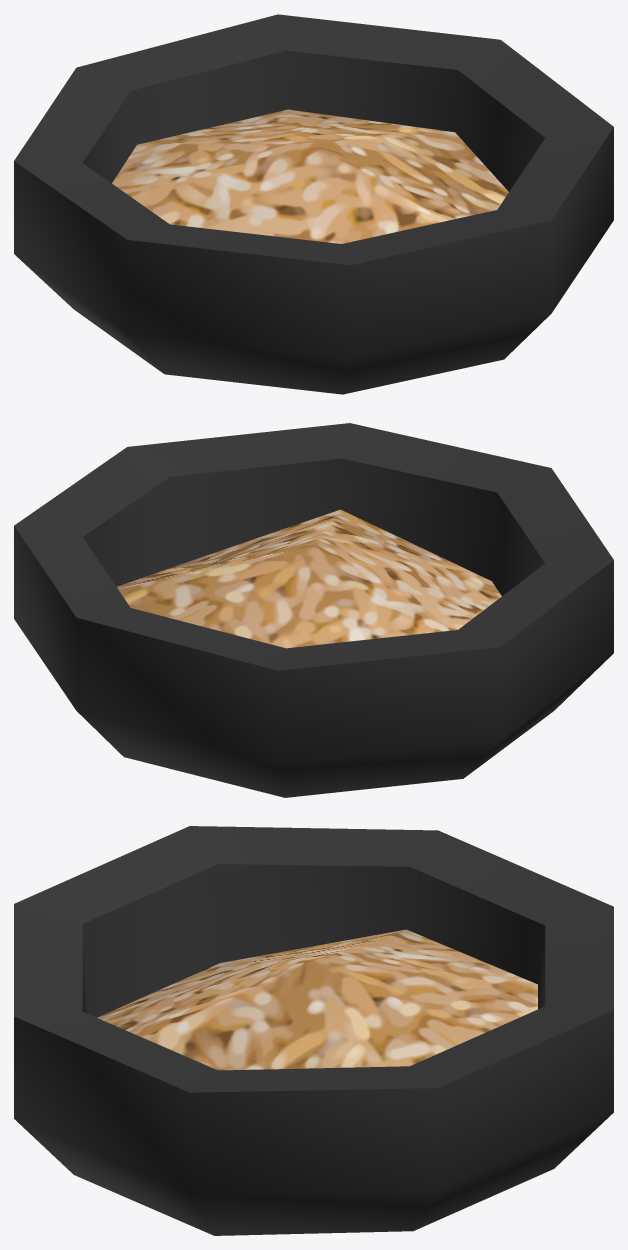
File: SM_PROP_bowl_wood_05.FBX
The picture shows the model from 3 angles, top to bottom: view 1: azimuth 30°, elevation 25°; view 2: azimuth 150°, elevation 25°; view 3: azimuth 270°, elevation 25°; orthographic projection. The views are drawn at different scales.
Visible parts, largest first — view 1: SM_PROP_bowl_wood_05; view 2: SM_PROP_bowl_wood_05; view 3: SM_PROP_bowl_wood_05.
Boxes of the visible parts, bbox=[...] form: SM_PROP_bowl_wood_05: bbox=[14, 14, 613, 394]; SM_PROP_bowl_wood_05: bbox=[14, 423, 613, 797]; SM_PROP_bowl_wood_05: bbox=[14, 826, 613, 1235].
Bounding box in the file's own units: 27.69 × 26.96 × 10.16.
